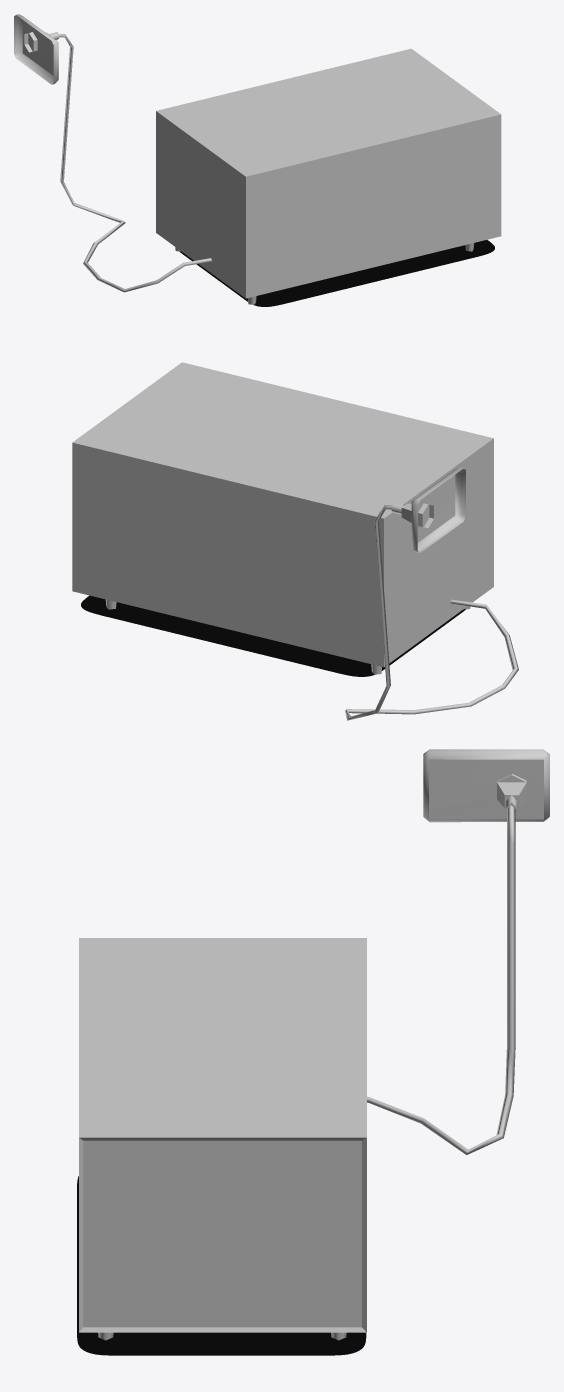
The model's file is antenna_tuner_LOD.fbx.
3 renders of one model, top to bottom at view 1: azimuth 30°, elevation 25°; view 2: azimuth 150°, elevation 25°; view 3: azimuth 270°, elevation 25°, orthographic. The views are drawn at different scales.
Parts seen in each view (by area): view 1: Antenna_Tuner_LOD, net_cable; view 2: Antenna_Tuner_LOD, net_cable; view 3: Antenna_Tuner_LOD, net_cable.
Boxes of the visible parts, x1,y1,x2,y2 form: Antenna_Tuner_LOD: (156,48,501,306); net_cable: (14,14,212,292); Antenna_Tuner_LOD: (72,362,493,676); net_cable: (344,467,518,720); Antenna_Tuner_LOD: (77,938,366,1355); net_cable: (367,749,549,1154).
Bounding box in the file's own units: 70.17 × 38.68 × 55.18.
